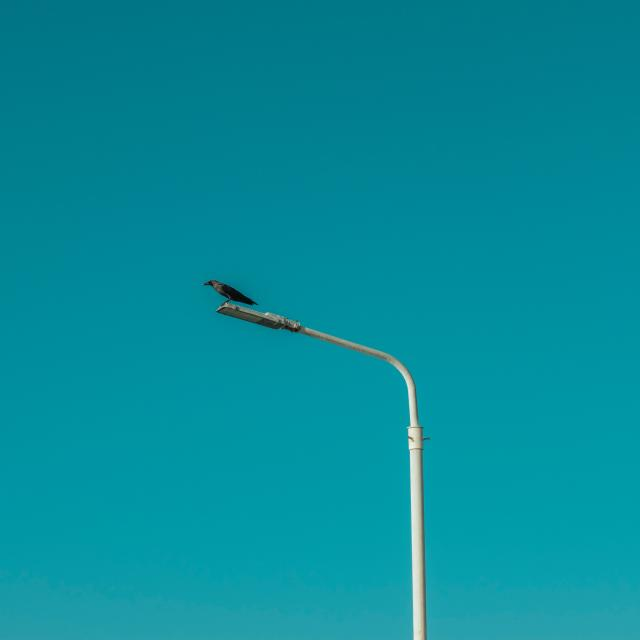Street Light: (214, 302, 428, 640)
